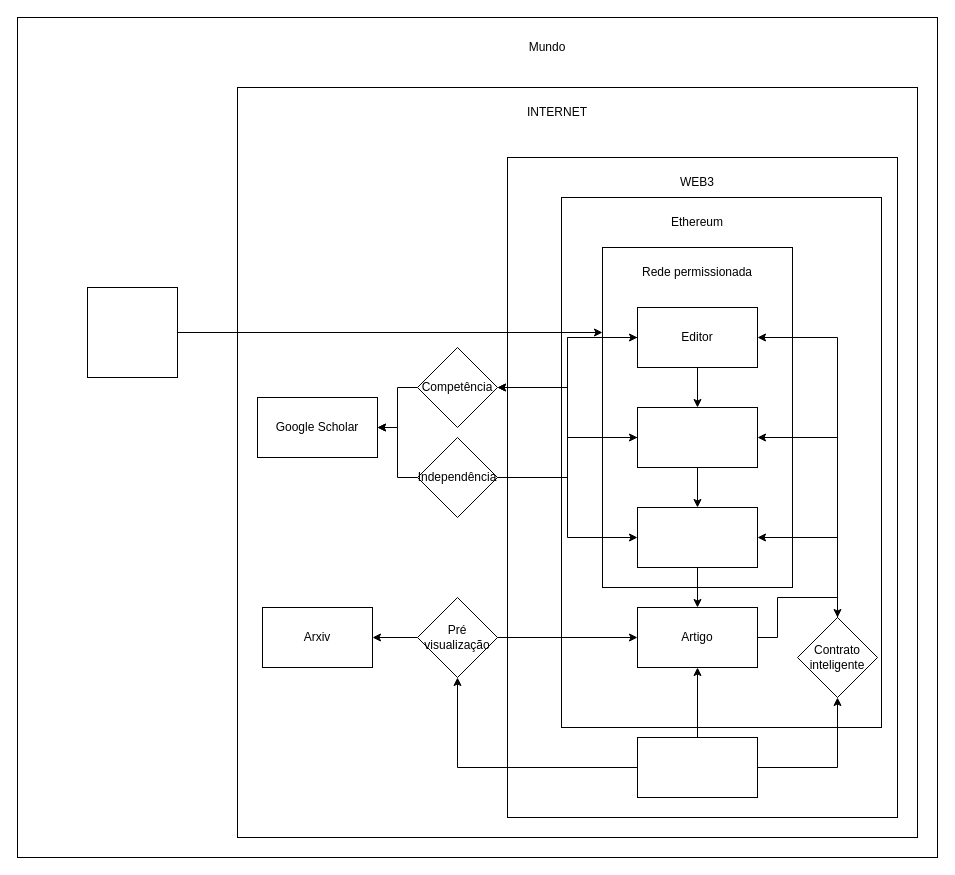
Image size: 955x875. Some labels were removed from this diagram. Here are the shapes that lost their labels. From the top down, the centre of each, then its label:
At pixel 132 332: "MEC".
At pixel 697 437: "Revisor".
At pixel 697 537: "Autor".
At pixel 697 767: "Leitor".
